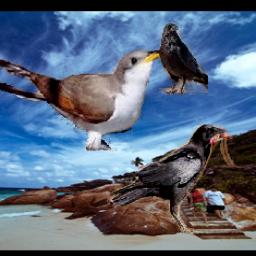Crow: (108, 120, 240, 234), (160, 23, 209, 95)
Cuckoo: (0, 49, 166, 151)
